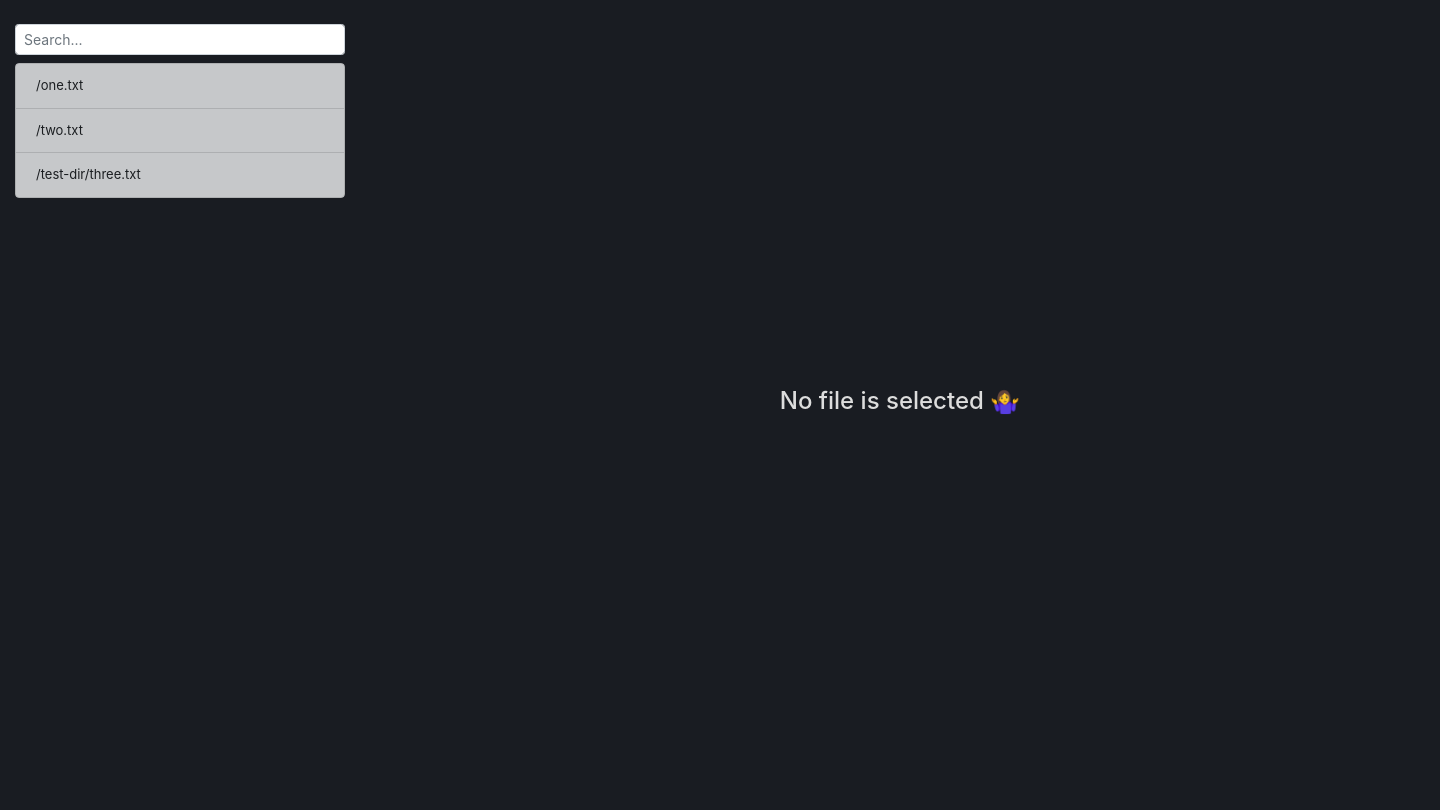
closes preview of first file
The image size is (1440, 810).
Click the button "/one.txt" at (60, 85), box [15, 63, 345, 108]
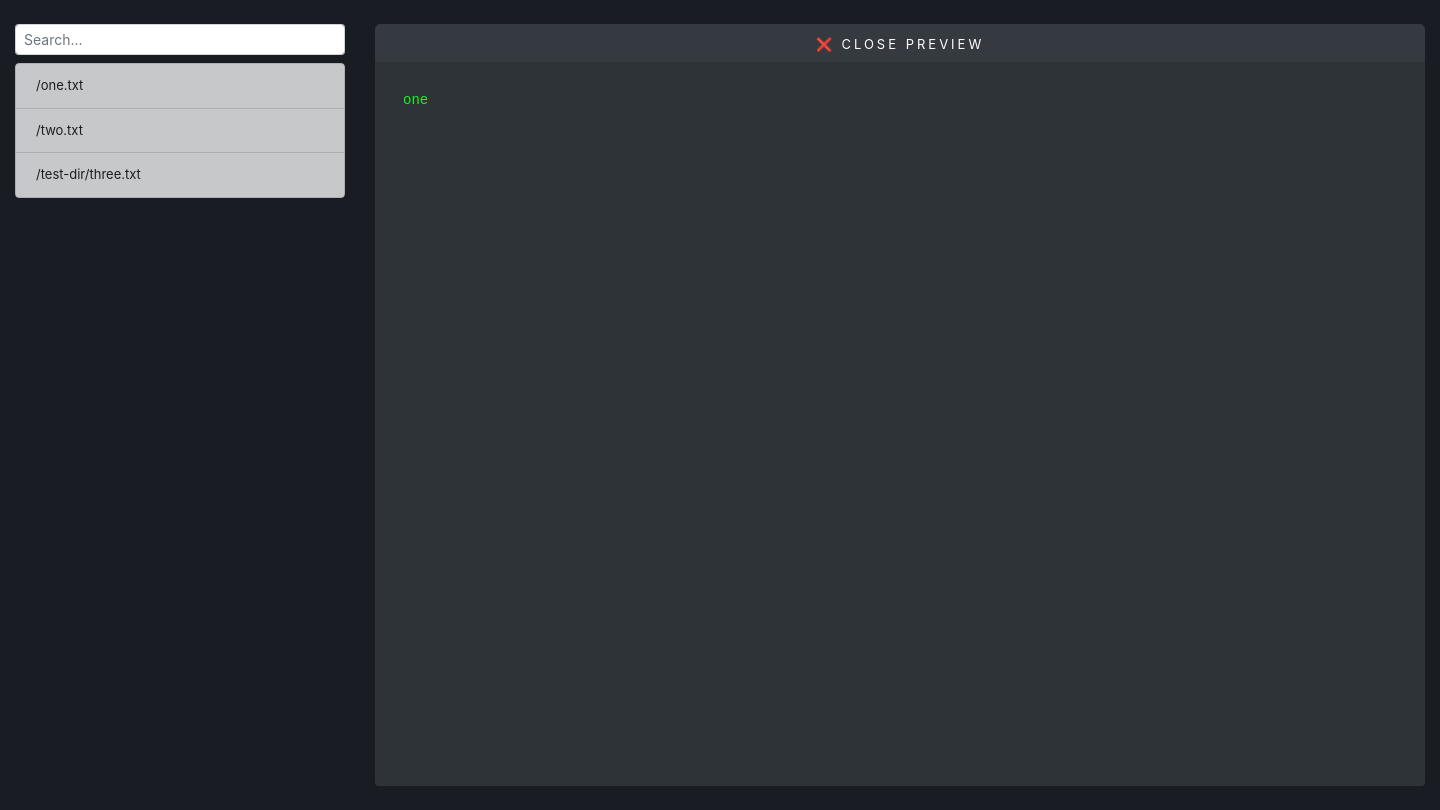
Click the button "❌ Close Preview" at (900, 43), box [375, 24, 1425, 62]
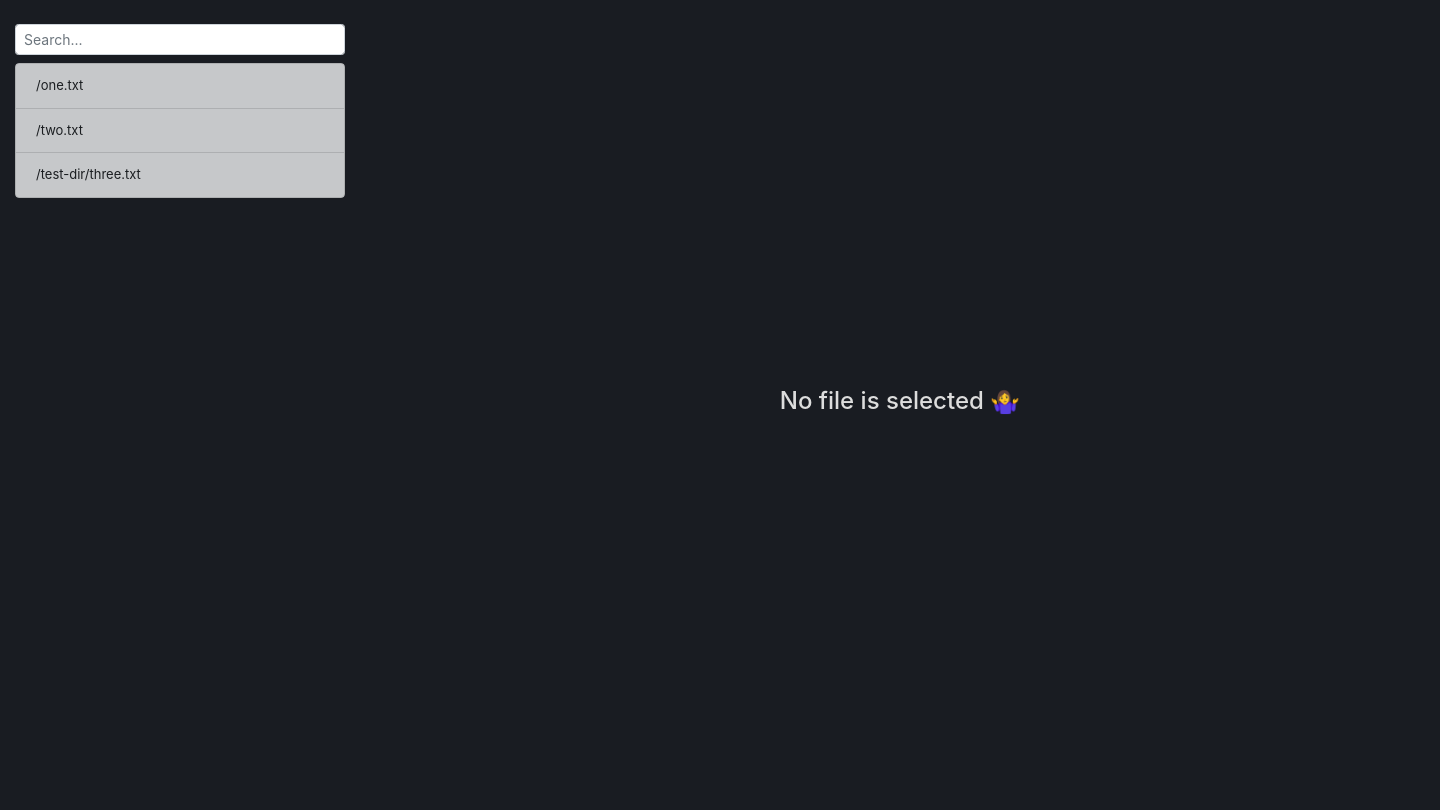
Check: the heading "No file is selected 🤷‍♀️" is shown, box [780, 387, 1020, 415]
